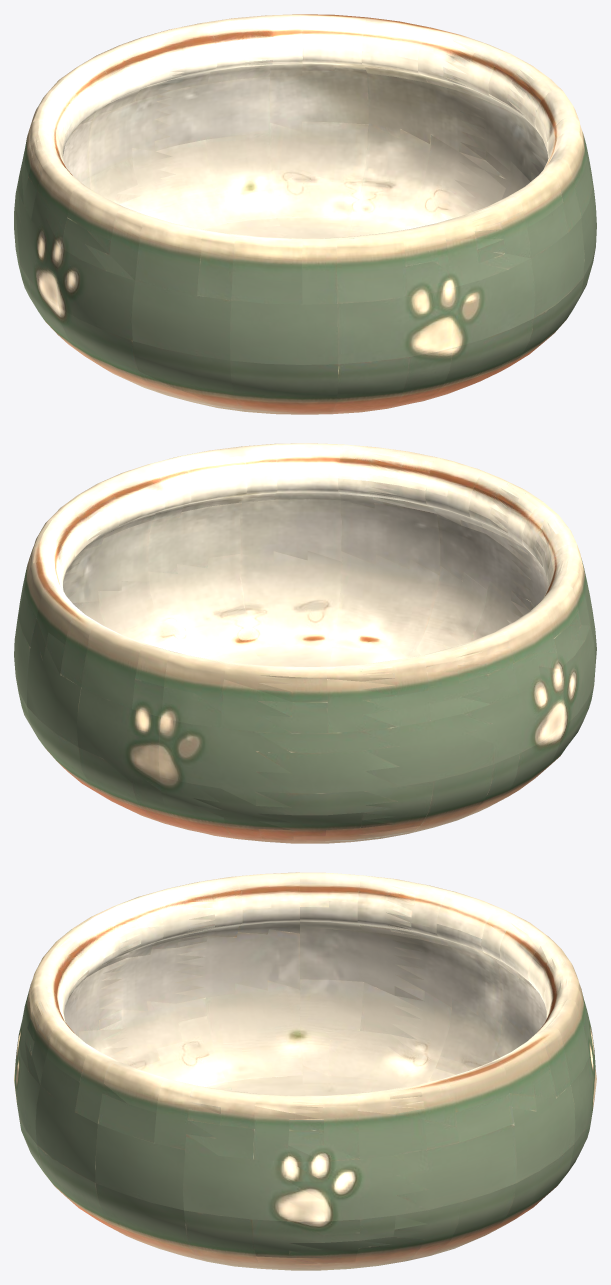
File: meshy-water-bowl.glb
The picture shows the model from 3 angles, top to bottom: view 1: azimuth 30°, elevation 25°; view 2: azimuth 150°, elevation 25°; view 3: azimuth 270°, elevation 25°; orthographic projection.
Bounding box in the file's own units: 1.9 × 0.7241 × 1.91.
Materials: 1 (1 with a texture image).
